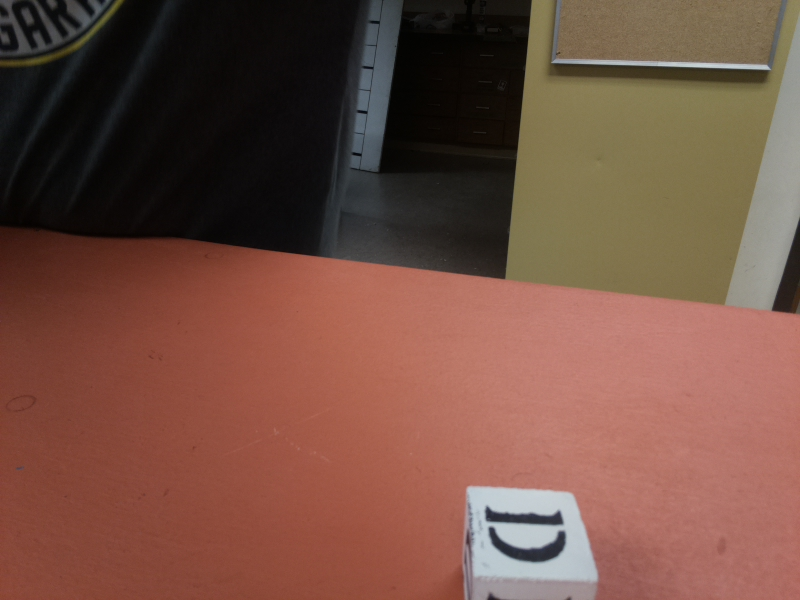blockD: (454, 486, 603, 598)
